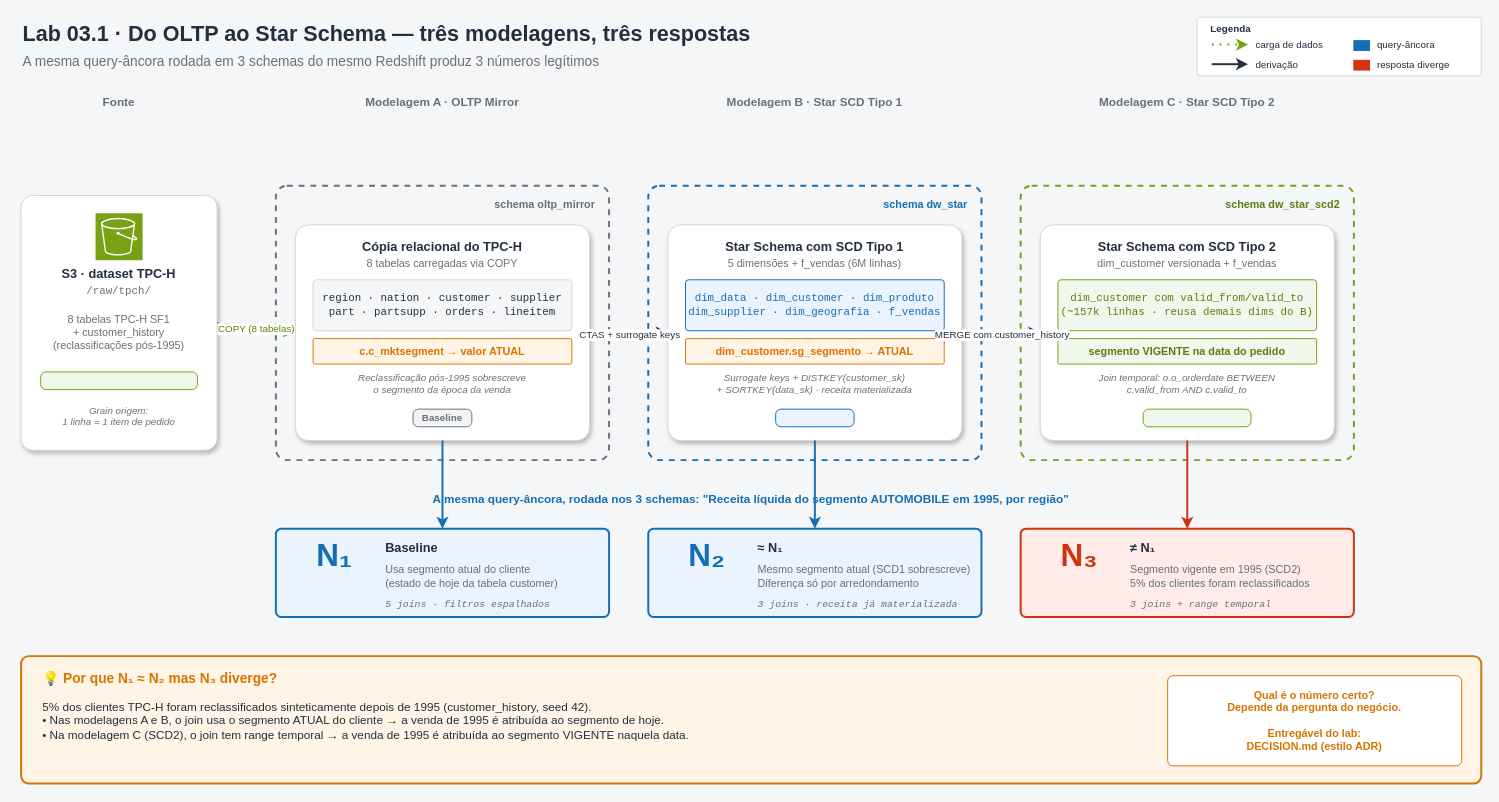
Some shapes in this 1499 by 802 pixel diagram are drawn without their labels. The shapes that lost their labels are listed below. From the top down, each one's centre as x and y in pixels, then its label:
At point (118, 380): "Preparado no Lab 03.0".
At point (814, 417): "Star clássico".
At point (1196, 417): "Preserva histórico".
